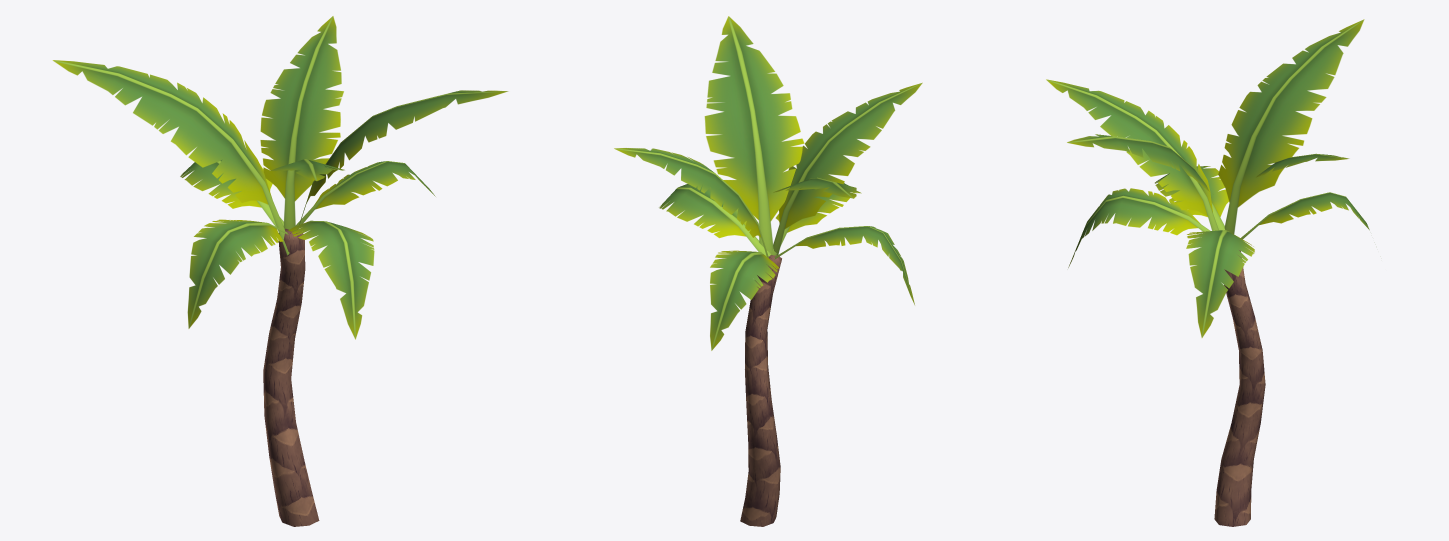
Rendered from StraightTree.glb.
The picture shows the model from 3 angles, left to right: view 1: azimuth 30°, elevation 25°; view 2: azimuth 150°, elevation 25°; view 3: azimuth 270°, elevation 25°; orthographic projection. The views are drawn at different scales.
Parts seen in each view (by area): view 1: PalmTree_3; view 2: PalmTree_3; view 3: PalmTree_3.
Part boxes in pixels (x1,y1,x2,y2): PalmTree_3: (52,16,508,526); PalmTree_3: (614,16,922,526); PalmTree_3: (1046,19,1369,526).
Bounding box in the file's own units: 4.47 × 4.67 × 4.22.
Materials: 2 (2 with a texture image).
